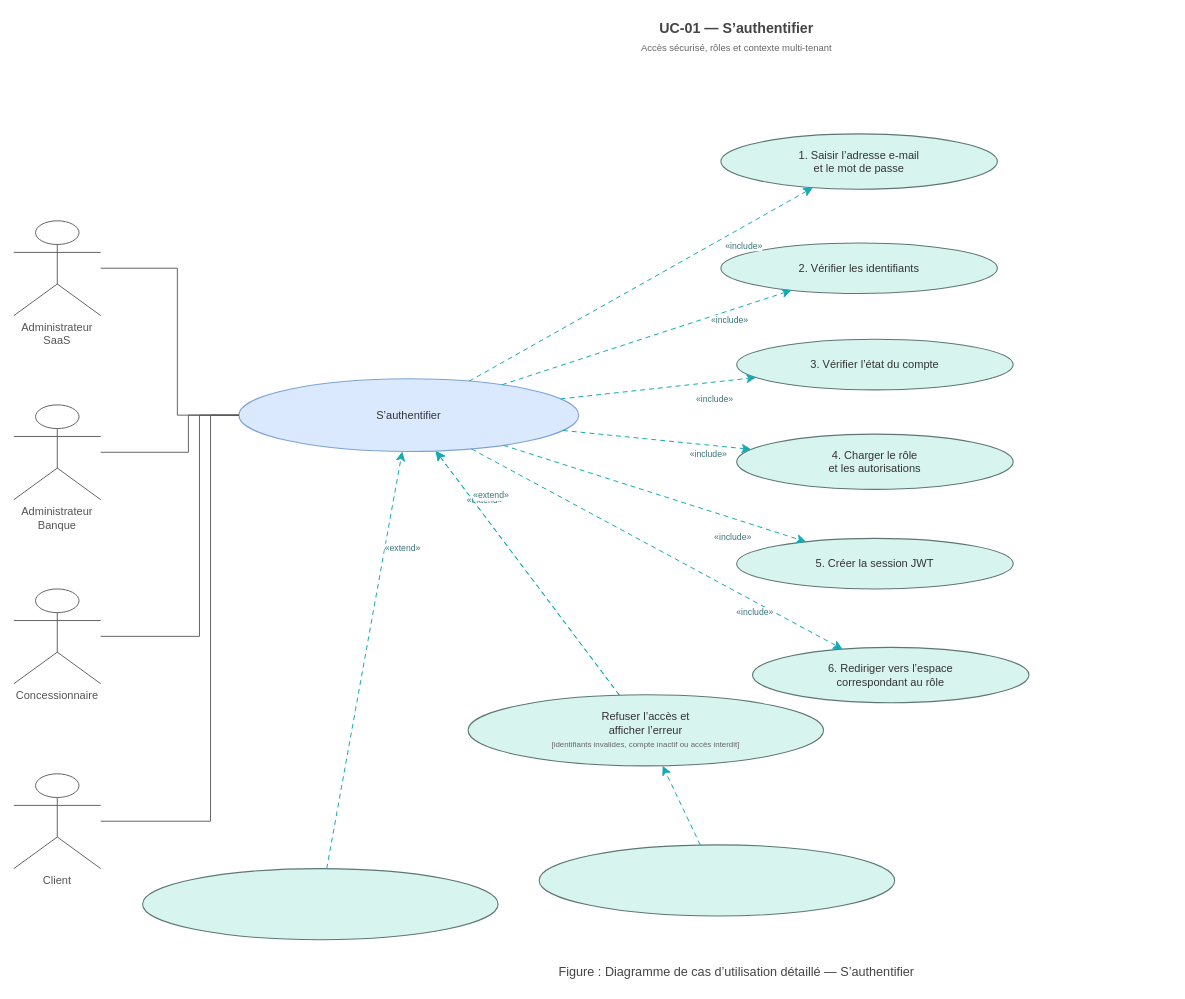
This 1185x999 diagram has some shape labels left out. The centre of each missing label's shape, as x and y in pixels:
Déterminer le contexte du tenant [utilisateur rattaché à une banque]: the point at 320,904
Renouveler la session ou se reconnecter [session ou jeton expiré]: the point at 716,880
